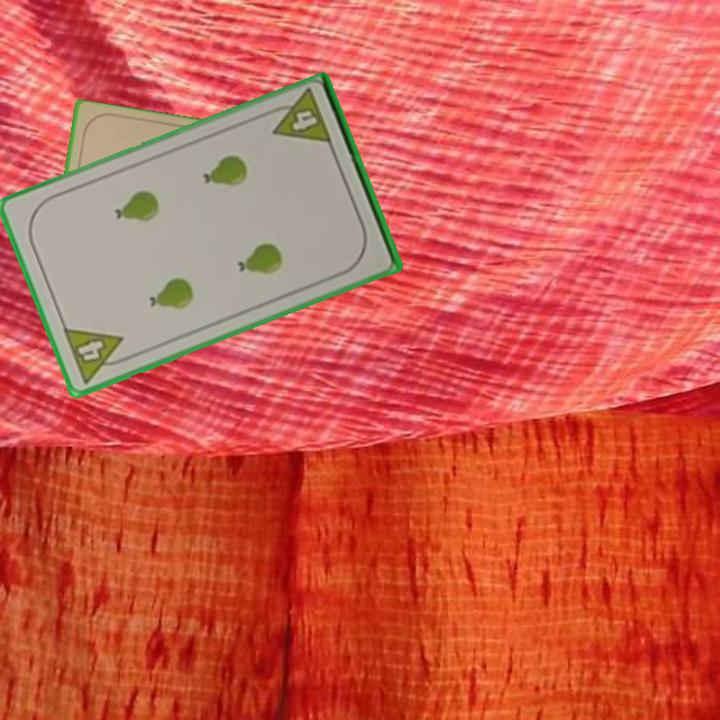4p: (59, 324, 133, 387), (263, 86, 335, 149)
